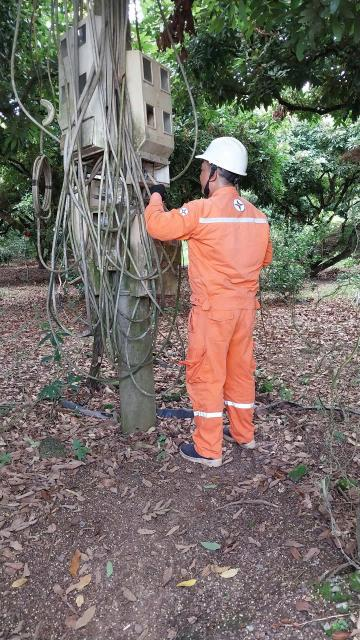gloves: (144, 177, 174, 201)
helmet: (192, 133, 260, 177)
shoes: (167, 433, 229, 471), (222, 423, 260, 455)
